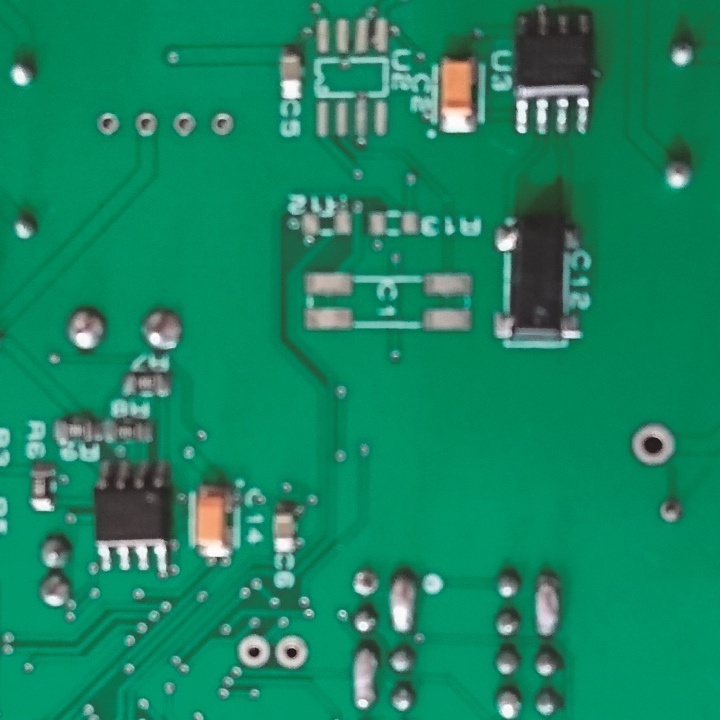F: (629, 422, 676, 469), (273, 635, 310, 670), (239, 635, 269, 668), (656, 494, 683, 529), (131, 109, 159, 141), (170, 108, 197, 139), (207, 109, 233, 139), (353, 568, 378, 598), (95, 110, 121, 138)
P: (387, 569, 419, 636), (532, 571, 559, 640), (352, 646, 380, 710)
